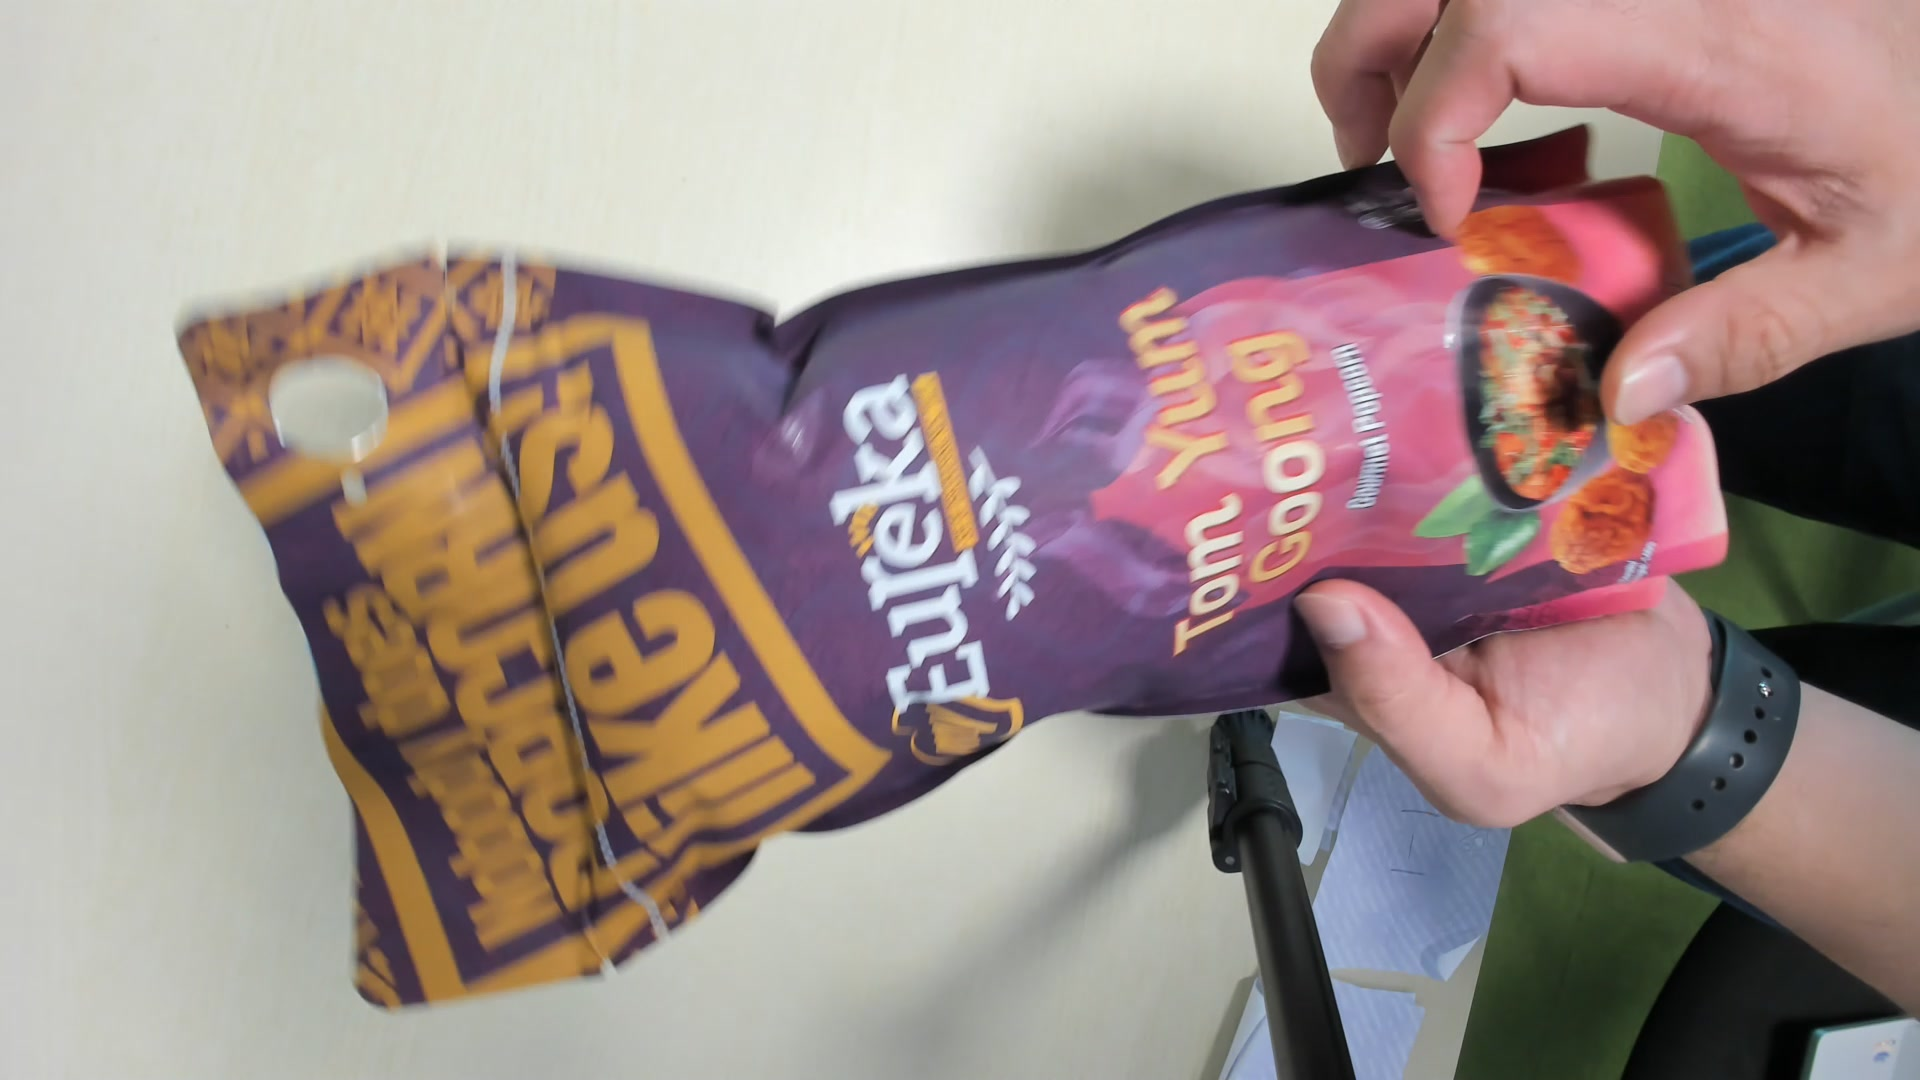PotatoChipsKeropok_100-199g_Halal_NonHealthy: (200, 148, 1722, 1029)
